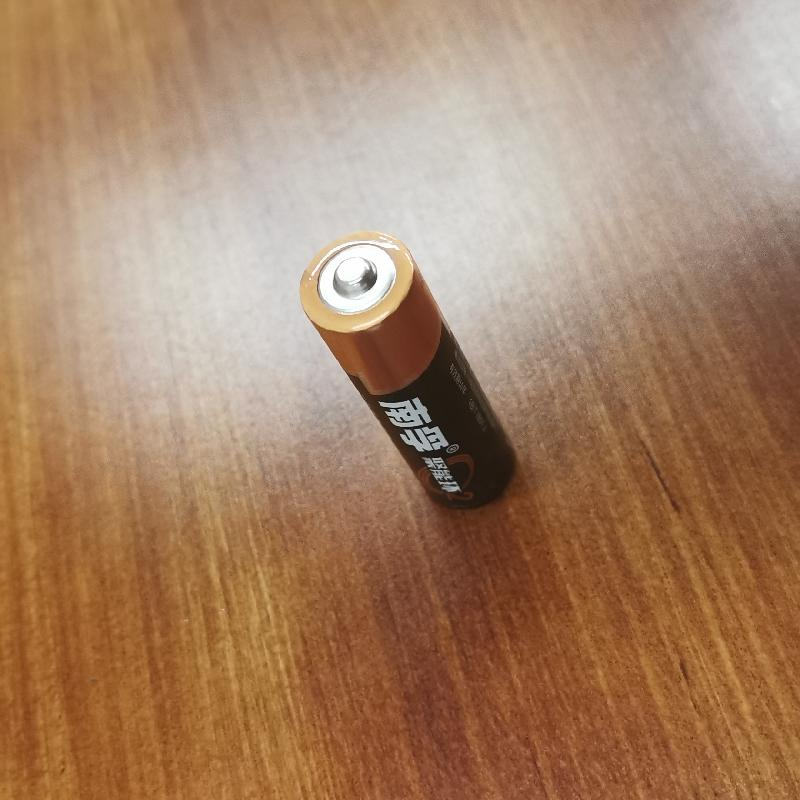battery: (296, 226, 524, 510)
